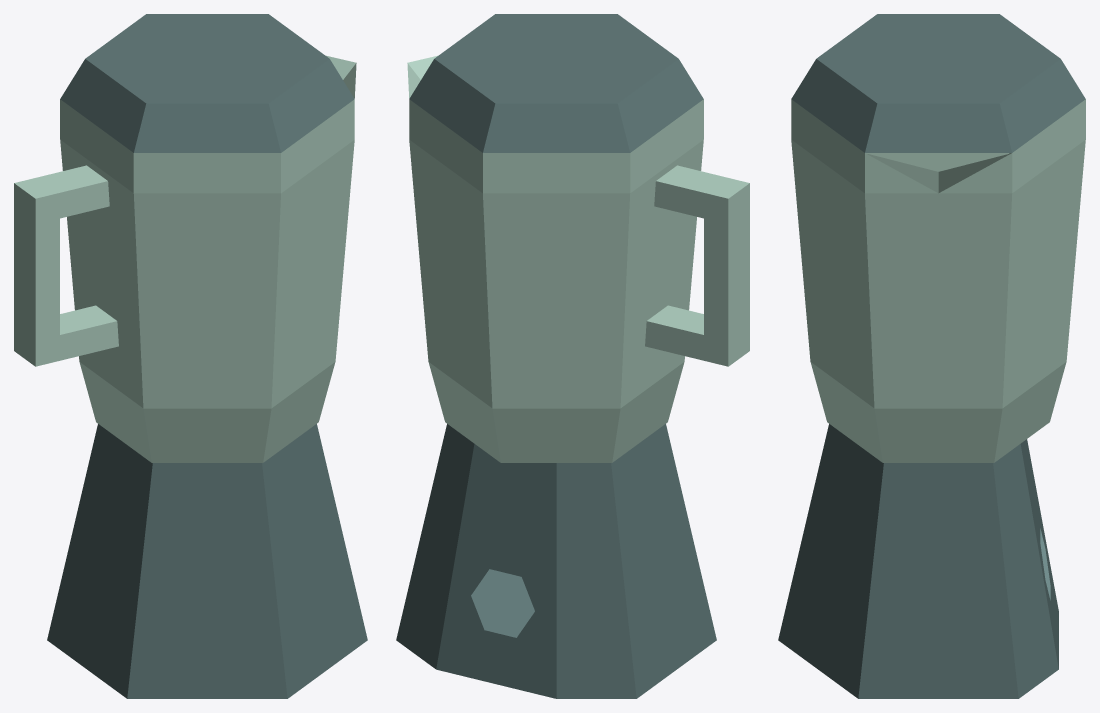
Rendered from kitchenBlender.glb.
3 renders of one model, left to right at view 1: azimuth 30°, elevation 25°; view 2: azimuth 150°, elevation 25°; view 3: azimuth 270°, elevation 25°, orthographic.
Size of the model in its own units: 1.36 by 2.28 by 1.09.
